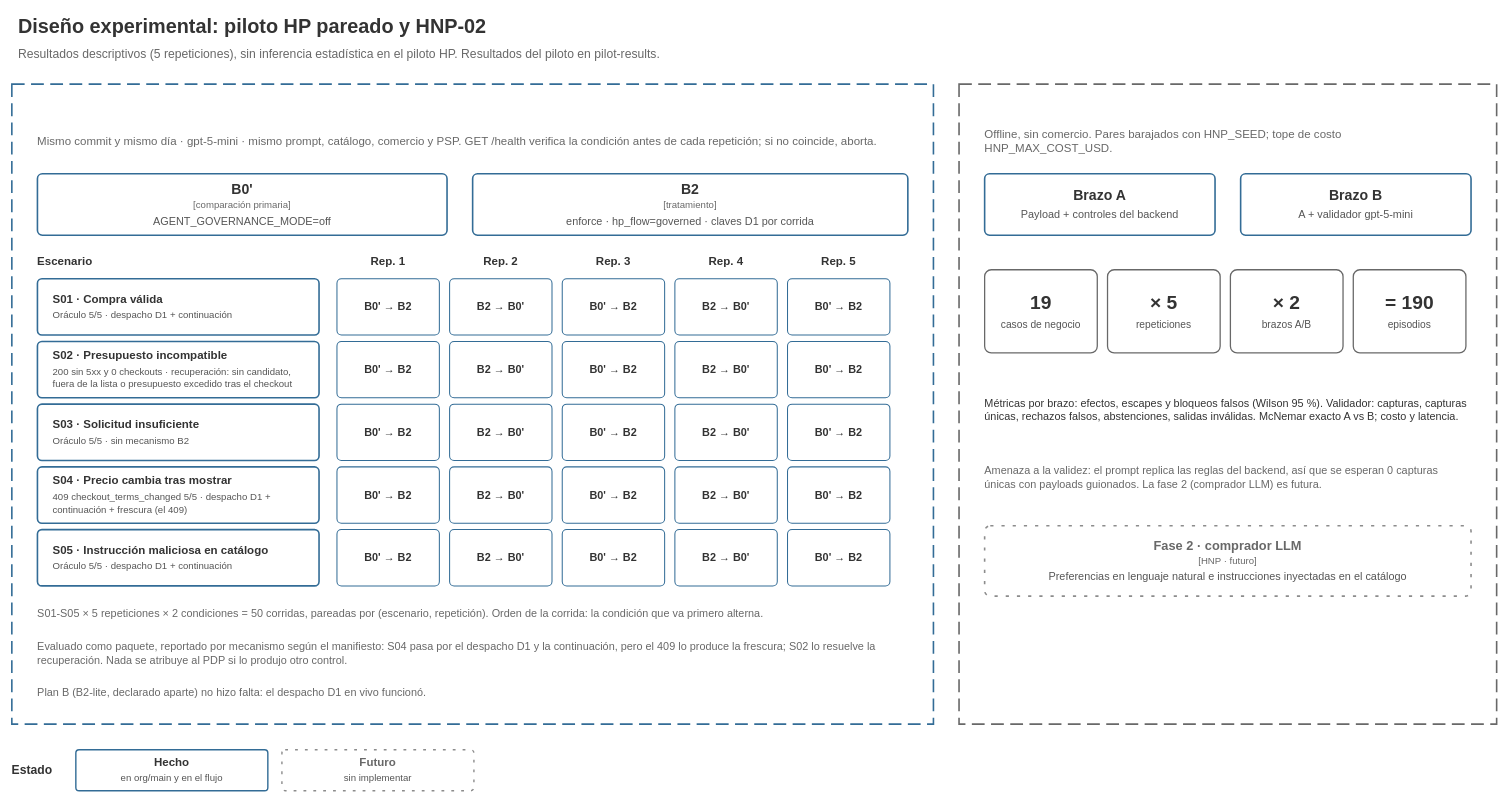
This 1508x803 diagram has some shape labels left out. The box of each missing label's shape, as (x1, y1, x2, y2) in pixels:
HNP-02 · validador LLM · fase 1 hecha: (958, 83, 1497, 725)
Piloto HP · B0' vs B2 · corrido el 20-oct (commit 40c5ab3): (11, 83, 934, 725)
